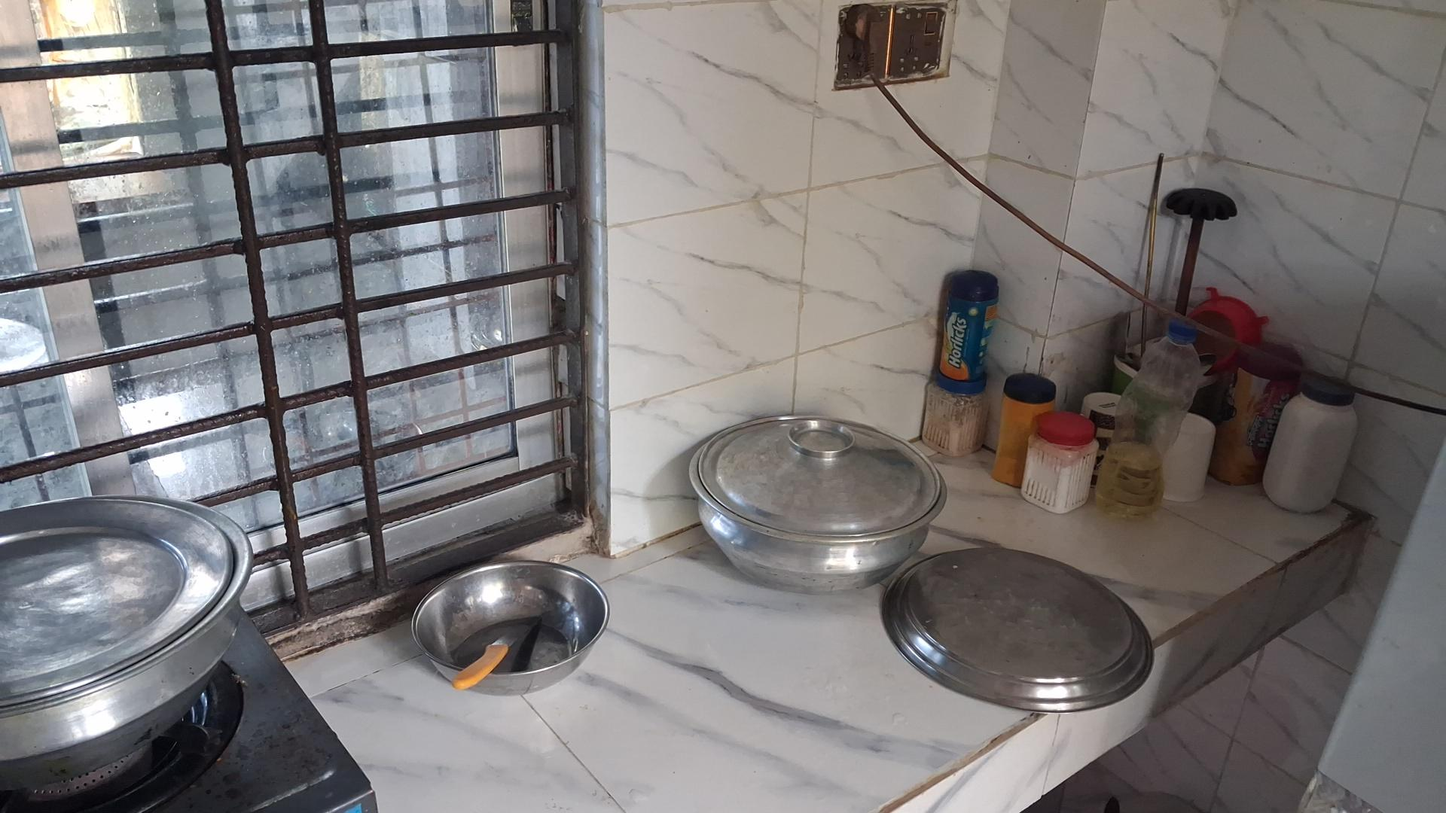Bottle: (1095, 312, 1197, 514)
Jar: (1267, 377, 1366, 518), (1025, 411, 1099, 517), (934, 266, 1001, 382), (994, 366, 1047, 487), (925, 369, 984, 458)
Knife: (406, 562, 606, 702), (450, 606, 544, 697)
Plate: (883, 539, 1154, 714)
Pot: (2, 492, 246, 778), (688, 414, 947, 594)
